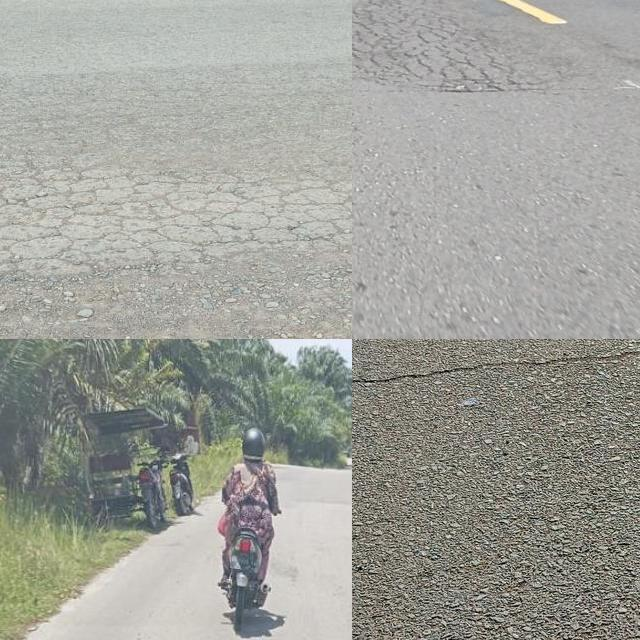Melintang: (352, 339, 640, 401)
Retak Buaya: (0, 172, 352, 276), (352, 0, 521, 96)
